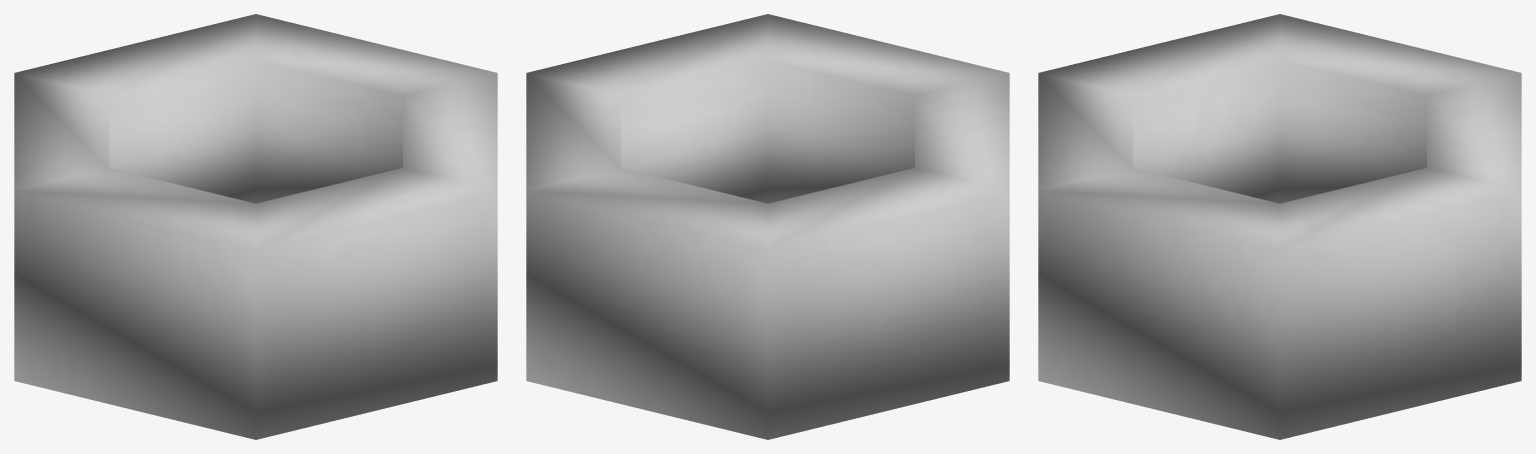
Rendered from Herr_tuerca.obj.
The picture shows the model from 3 angles, left to right: view 1: azimuth 30°, elevation 25°; view 2: azimuth 150°, elevation 25°; view 3: azimuth 270°, elevation 25°; orthographic projection.
Visible parts, largest first — view 1: Herr_tuerca; view 2: Herr_tuerca; view 3: Herr_tuerca.
Part boxes in pixels (x1,y1,x2,y2): Herr_tuerca: (14, 14, 497, 439); Herr_tuerca: (526, 14, 1009, 439); Herr_tuerca: (1038, 14, 1521, 439).
Size of the model in its own units: 0.0314 by 0.0118 by 0.0272.
Materials: 1 (1 with a texture image).
